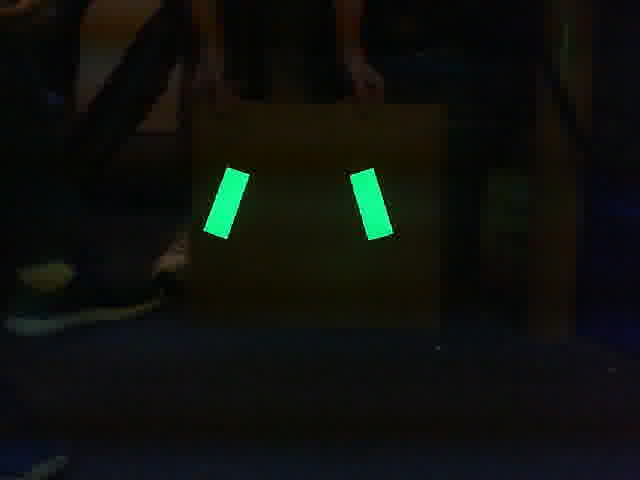target: (204, 165, 396, 249)
